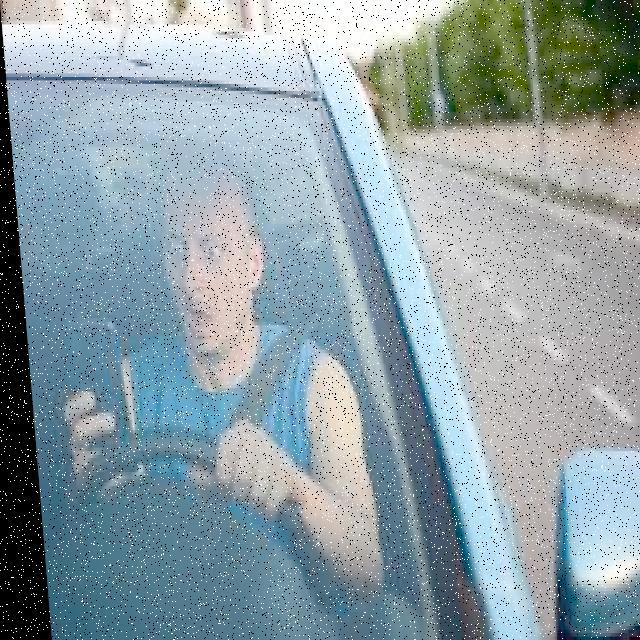seatbelt: (146, 296, 357, 488)
